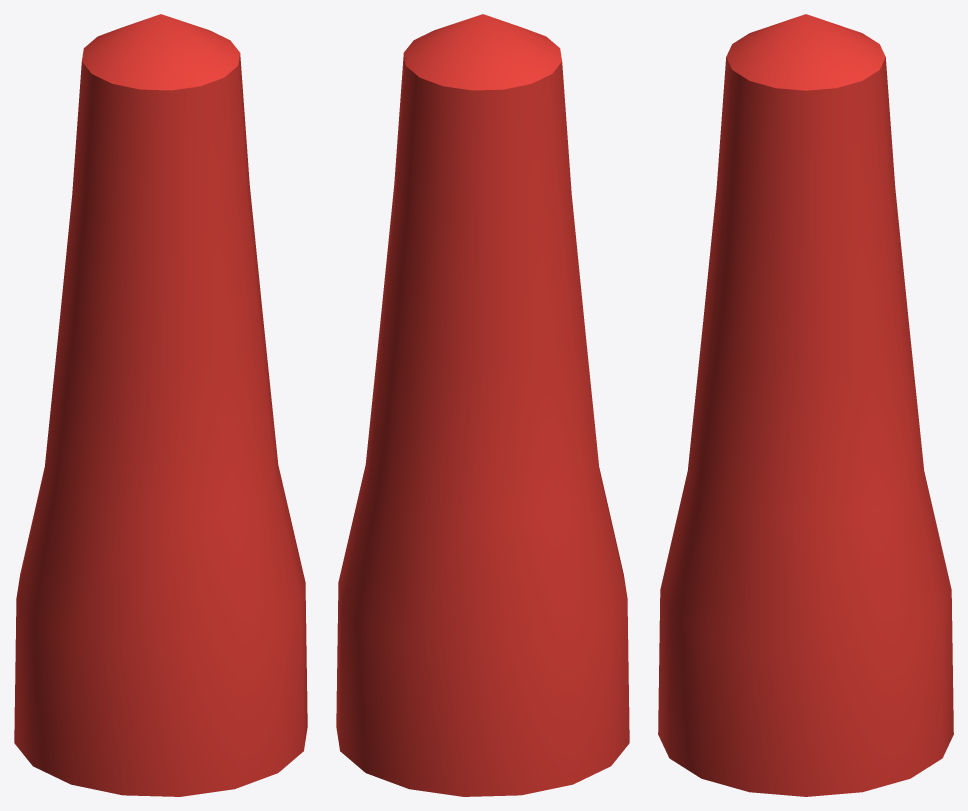
Rendered from enemybullet.obj.
3 renders of one model, left to right at view 1: azimuth 30°, elevation 25°; view 2: azimuth 150°, elevation 25°; view 3: azimuth 270°, elevation 25°, orthographic.
Visible parts, largest first — view 1: 円柱; view 2: 円柱; view 3: 円柱.
Part boxes in pixels (x1,y1,x2,y2): 円柱: (14,14,307,796); 円柱: (336,14,629,796); 円柱: (658,14,953,796).
Bounding box in the file's own units: 0.1046 × 0.2813 × 0.1046.
Materials: 1 (1 with a texture image).
